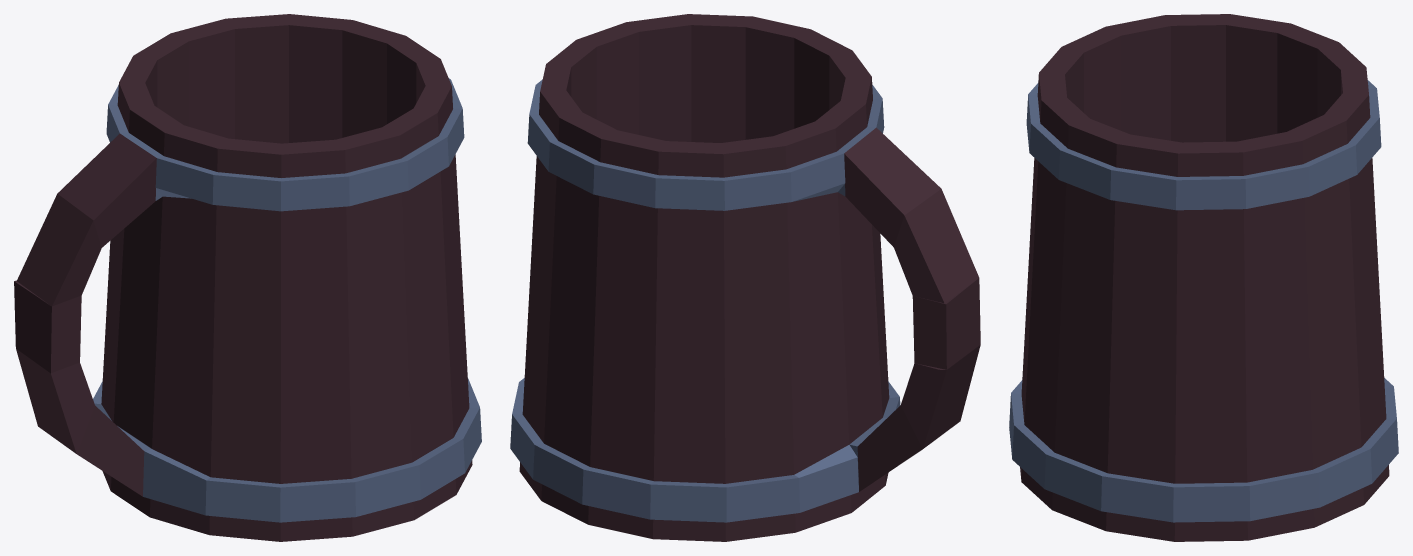
File: Fiore_Mauro_48673823.fbx
3 views of the same model, side by side, from view 1: azimuth 30°, elevation 25°; view 2: azimuth 150°, elevation 25°; view 3: azimuth 270°, elevation 25° (orthographic).
Visible parts, largest first — view 1: Cylinder; view 2: Cylinder; view 3: Cylinder.
Part boxes in pixels (x1,y1,x2,y2): Cylinder: [14, 14, 481, 541]; Cylinder: [510, 14, 980, 541]; Cylinder: [1009, 14, 1398, 541].
Bounding box in the file's own units: 294 × 251 × 233.
Materials: 1 (1 with a texture image).
